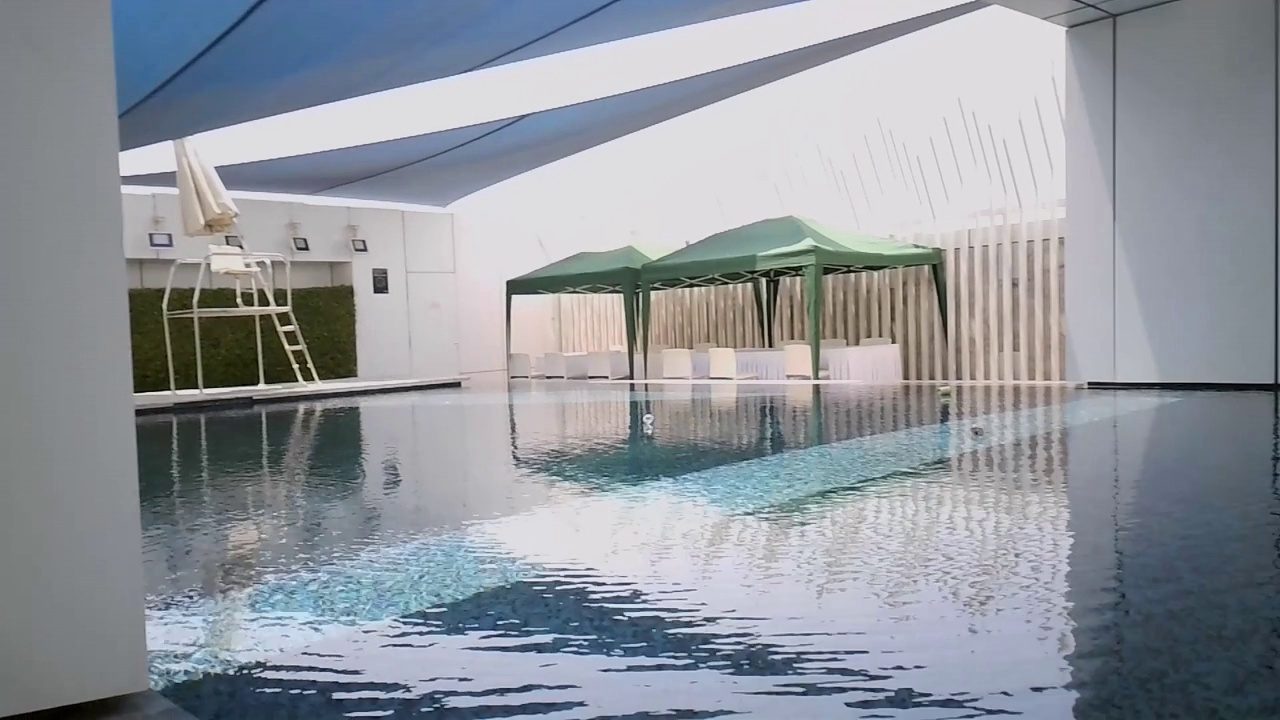debris: (968, 422, 985, 439), (934, 381, 951, 395), (641, 411, 655, 426)
